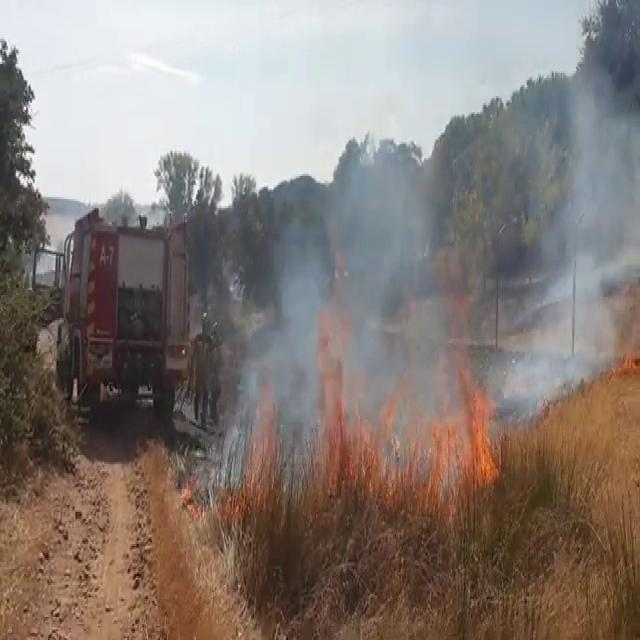Fire: (316, 305, 500, 510), (170, 379, 308, 516)
Smoke: (510, 274, 610, 409), (574, 62, 640, 266), (334, 166, 429, 298)
